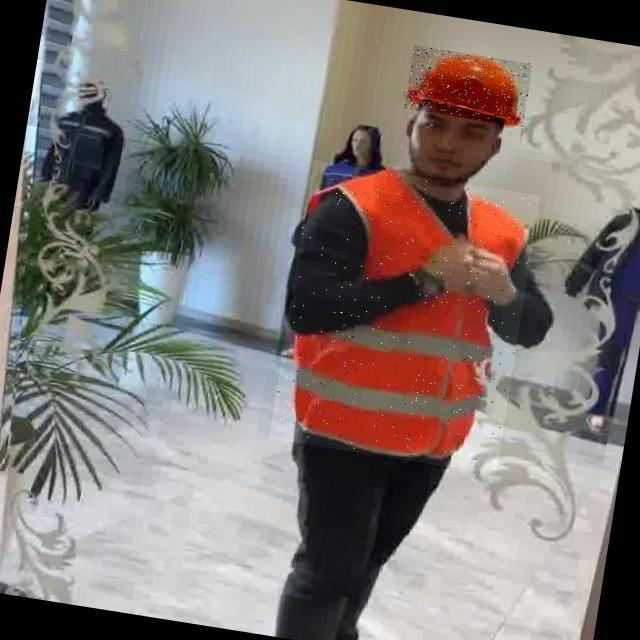Helmet: (404, 46, 533, 128)
Safety Vest: (269, 160, 540, 475)
